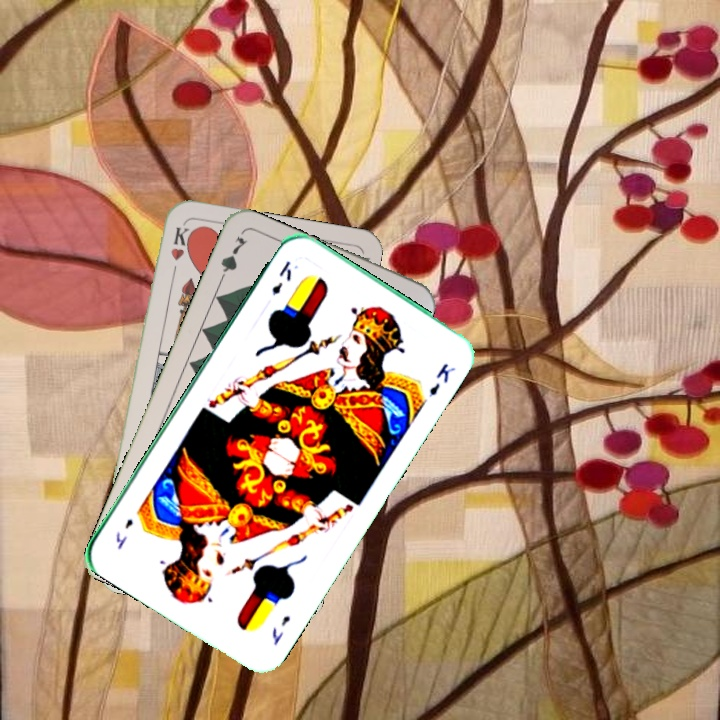EK: (267, 256, 294, 298), (267, 611, 293, 648)
G7: (214, 232, 250, 288)
HK: (167, 222, 189, 282)
